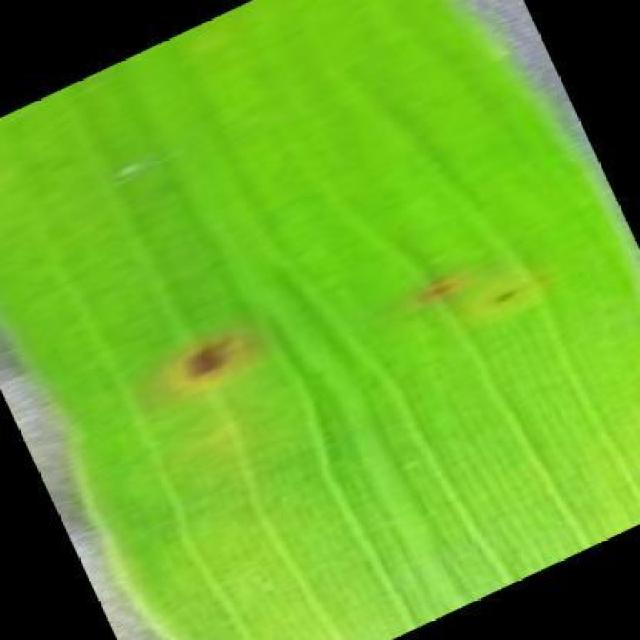Leaf_Blast: (156, 302, 282, 408), (92, 130, 178, 202), (398, 262, 472, 323), (474, 275, 538, 322), (199, 419, 247, 464)
